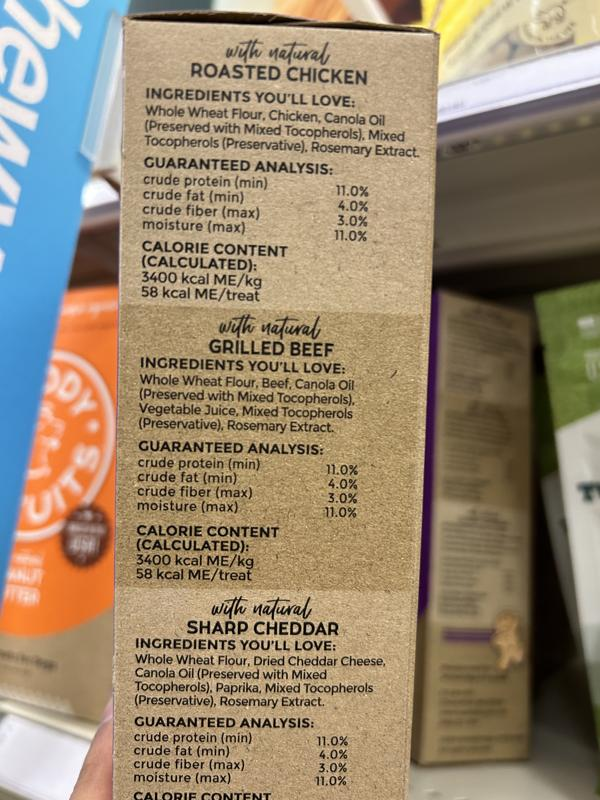ingredients: (132, 635, 387, 709)
